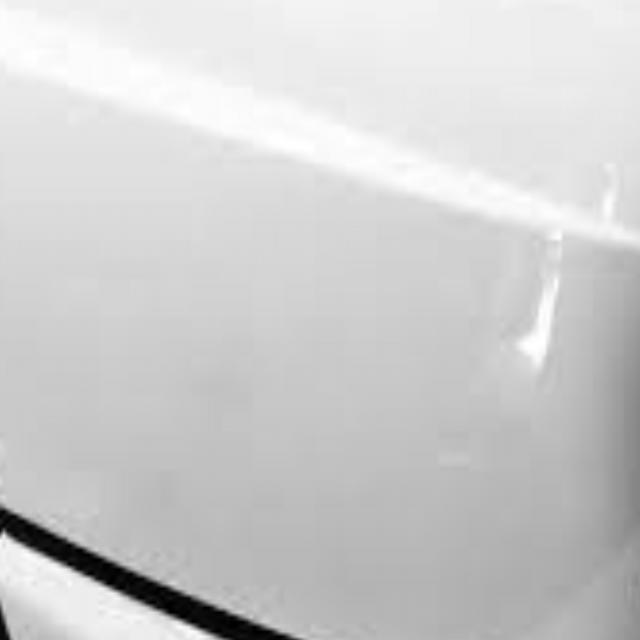dents: (503, 209, 596, 446)
